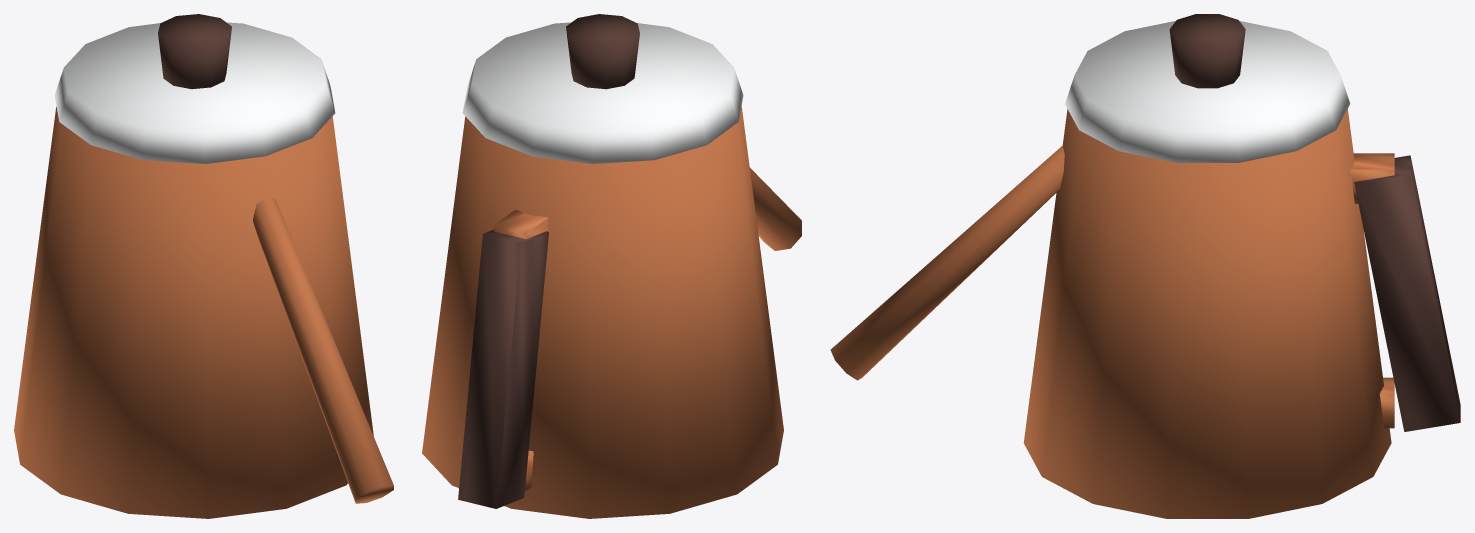
Rendered from artisan-drip-kettle.glb.
3 views of the same model, side by side, from view 1: azimuth 30°, elevation 25°; view 2: azimuth 150°, elevation 25°; view 3: azimuth 270°, elevation 25° (orthographic).
Visible parts, largest first — view 1: TS_Prop_artisan-drip-kettle; view 2: TS_Prop_artisan-drip-kettle; view 3: TS_Prop_artisan-drip-kettle.
Part boxes in pixels (x1,y1,x2,y2): TS_Prop_artisan-drip-kettle: (14, 14, 393, 518); TS_Prop_artisan-drip-kettle: (422, 14, 801, 518); TS_Prop_artisan-drip-kettle: (830, 14, 1460, 518).
Bounding box in the file's own units: 0.1131 × 0.144 × 0.1987.
1 material, 1 textured.
